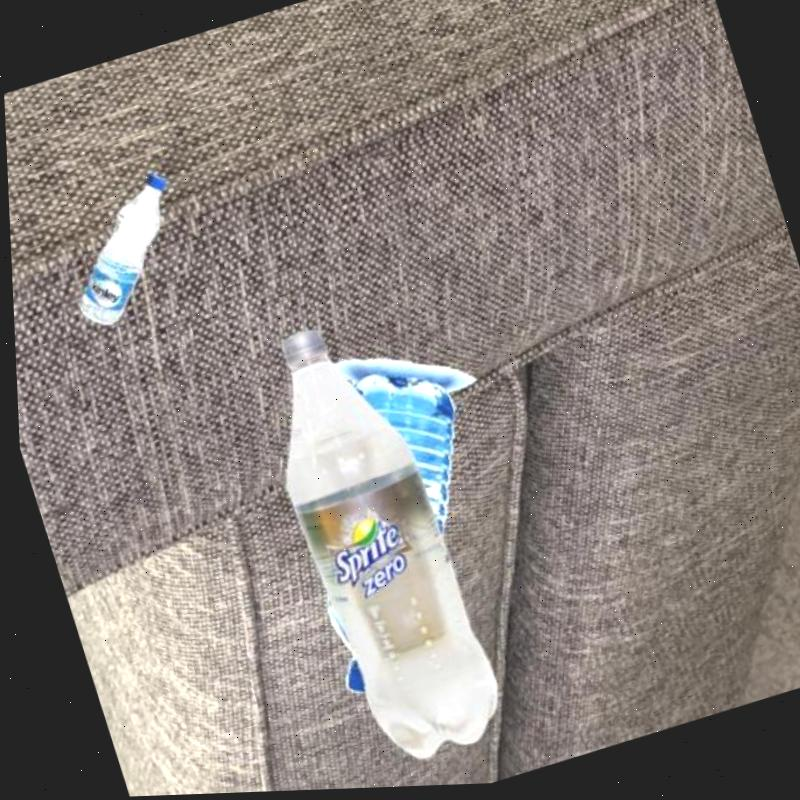botella: (229, 301, 506, 786), (250, 353, 523, 703), (40, 168, 206, 338)
